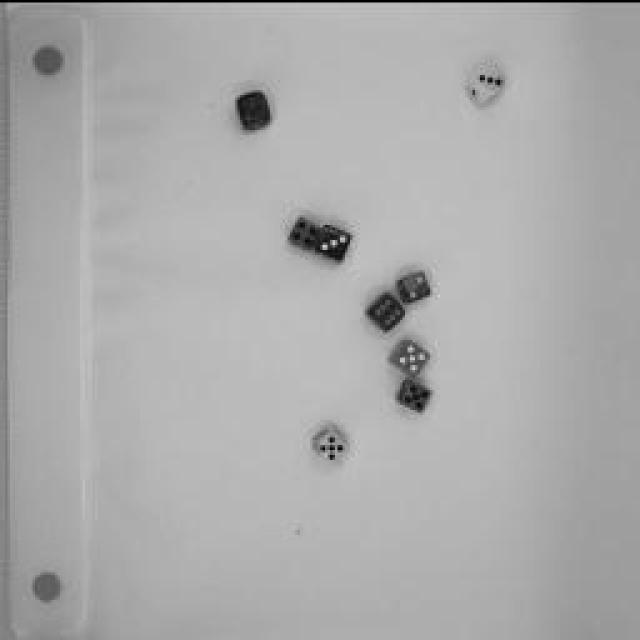dice_1: (232, 82, 280, 136)
dice_2: (394, 264, 434, 306)
dice_3: (461, 59, 514, 106), (313, 218, 355, 258)
dice_4: (285, 212, 325, 252)
dice_5: (309, 421, 351, 469), (388, 338, 432, 378), (395, 379, 430, 411)
dice_6: (365, 288, 410, 332)
